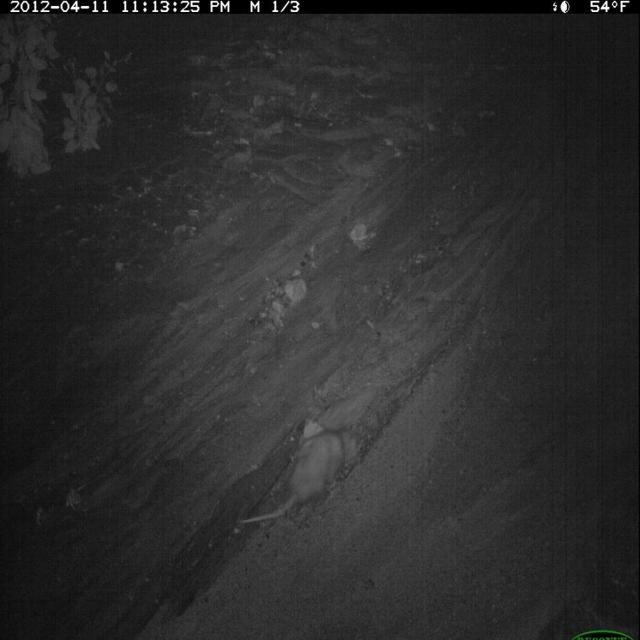opossum: (233, 423, 366, 537)
